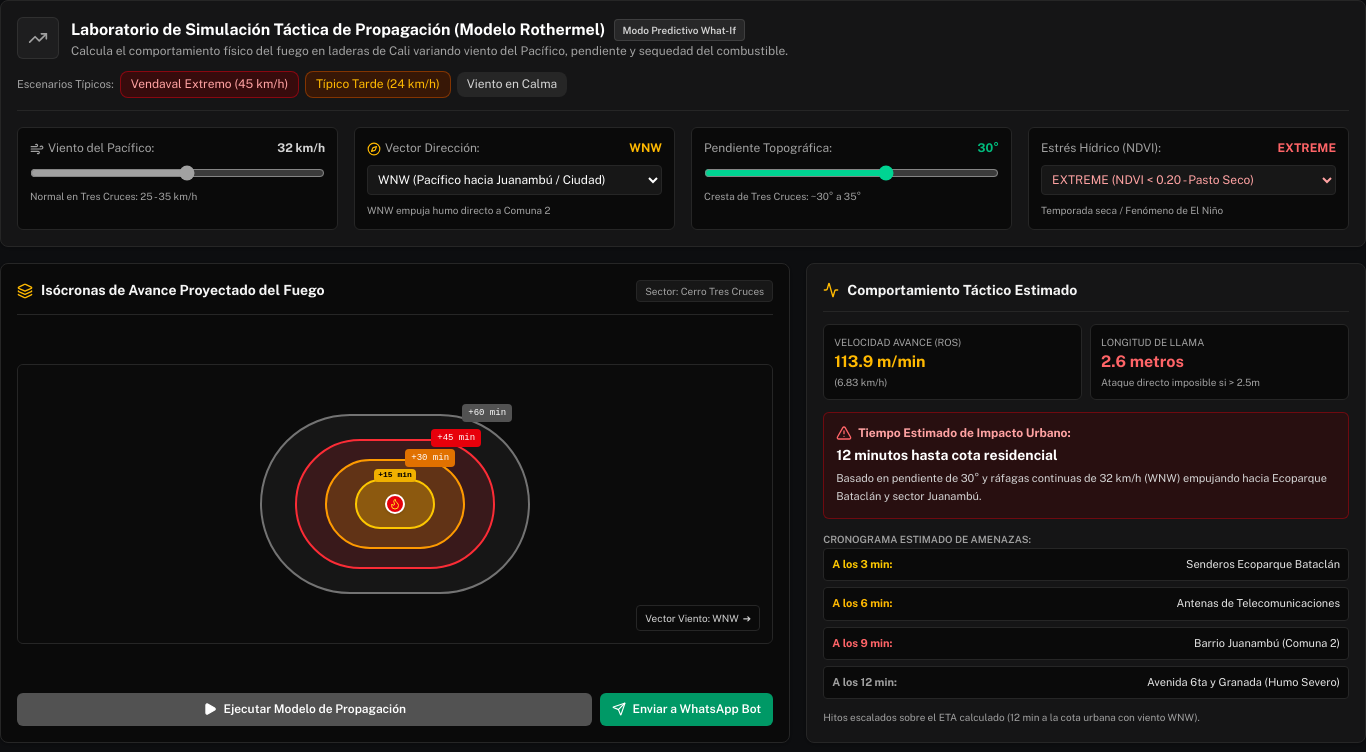
Test: FireSpreadSimulator › si el despacho de WhatsApp falla no anuncia éxito
The width and height of the screenshot is (1366, 752).
Click the button "Enviar a WhatsApp Bot". click: (687, 709)
box: 600,693 -> 773,726
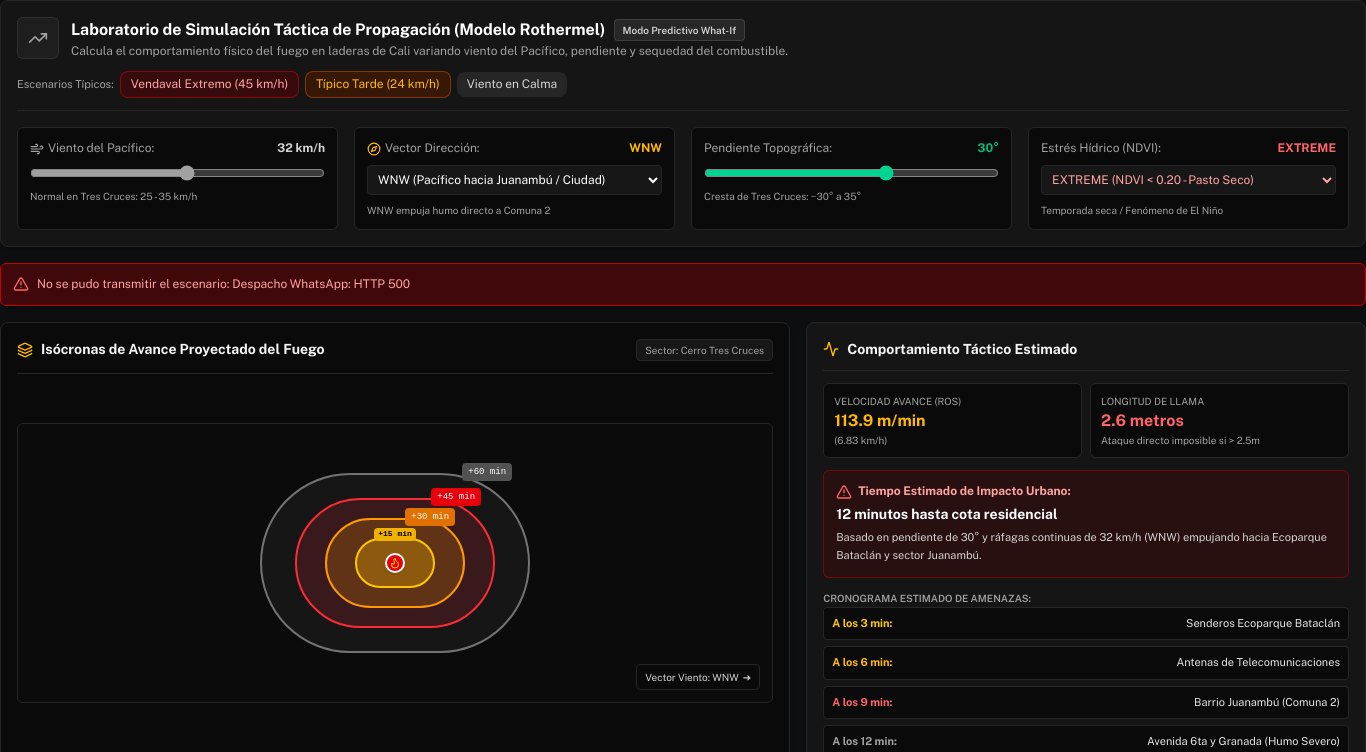
Result: the message shows "No se pudo transmitir el escenario" at 37,277 -> 410,291
